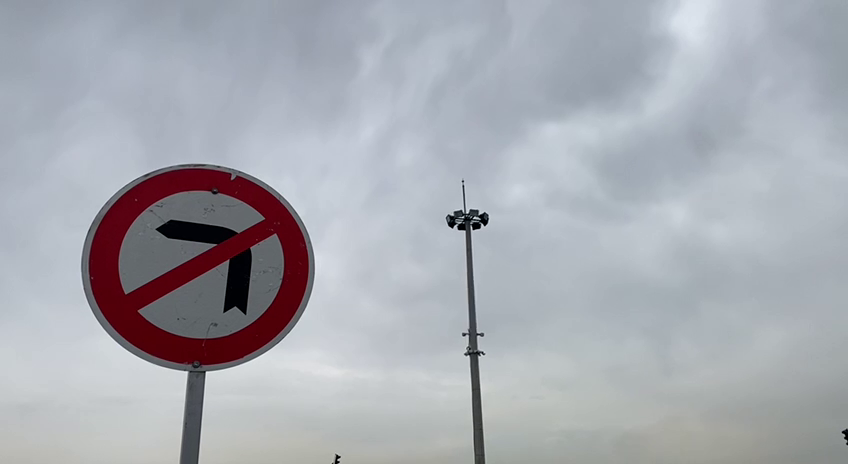noTurnLeft: (79, 154, 320, 377)
